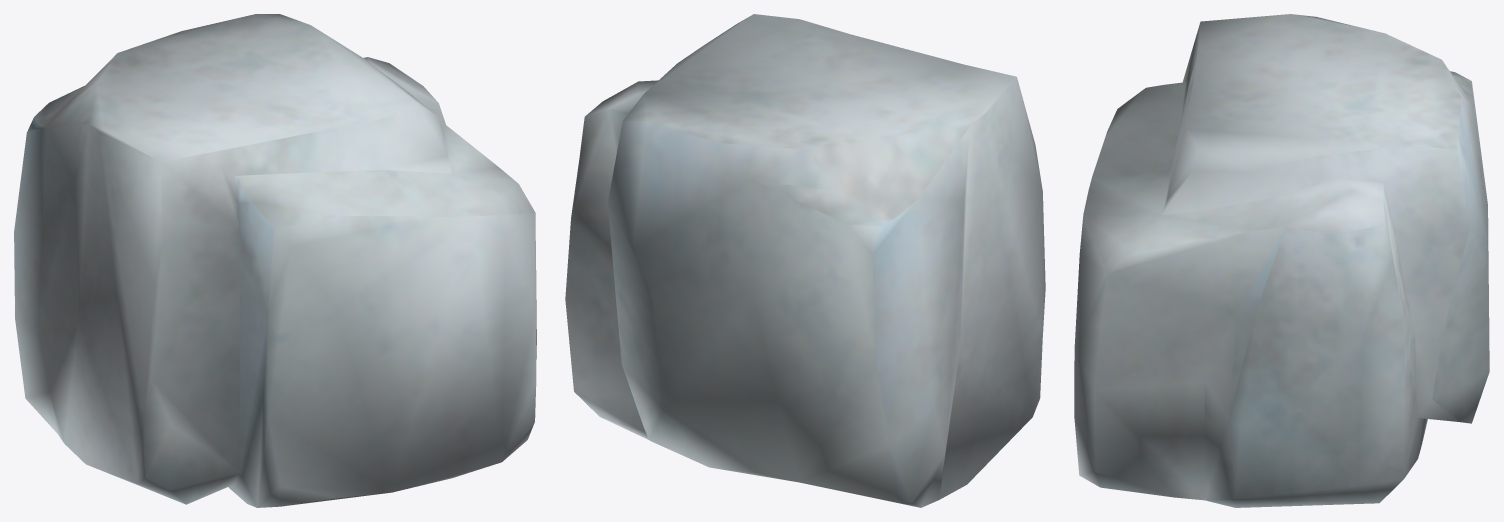
The model's file is P_BoulderCubic05.obj.
The picture shows the model from 3 angles, left to right: view 1: azimuth 30°, elevation 25°; view 2: azimuth 150°, elevation 25°; view 3: azimuth 270°, elevation 25°; orthographic projection. The views are drawn at different scales.
Size of the model in its own units: 8.08 by 7.65 by 8.17.
